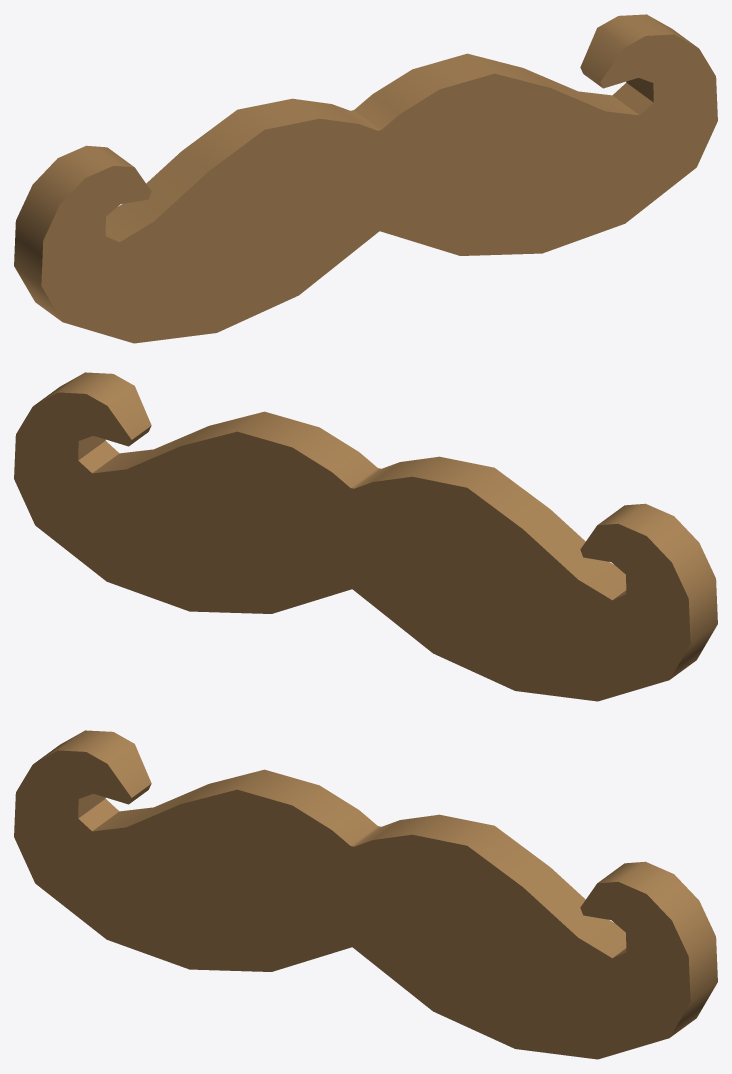
Rendered from Mustache_2.fbx.
The picture shows the model from 3 angles, top to bottom: view 1: azimuth 30°, elevation 25°; view 2: azimuth 150°, elevation 25°; view 3: azimuth 330°, elevation 25°; orthographic projection.
Visible parts, largest first — view 1: Mustache_2; view 2: Mustache_2; view 3: Mustache_2.
Boxes of the visible parts, x1,y1,x2,y2 form: Mustache_2: (14,14,717,343); Mustache_2: (14,372,717,701); Mustache_2: (14,730,717,1059).
Bounding box in the file's own units: 0.2401 × 0.0652 × 0.0168.
